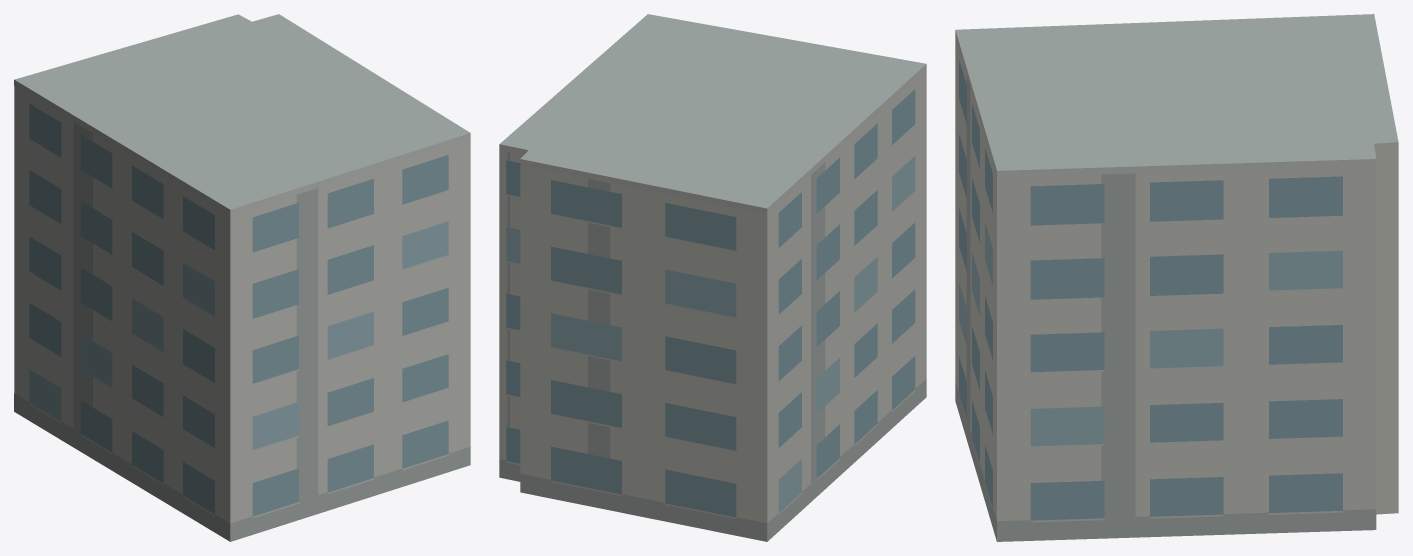
Rendered from survey-upis-32526769.glb.
The picture shows the model from 3 angles, left to right: view 1: azimuth 30°, elevation 25°; view 2: azimuth 150°, elevation 25°; view 3: azimuth 270°, elevation 25°; orthographic projection. The views are drawn at different scales.
Visible parts, largest first — view 1: survey-upis-32526769.tmp; view 2: survey-upis-32526769.tmp; view 3: survey-upis-32526769.tmp.
Boxes of the visible parts, bbox=[...] form: survey-upis-32526769.tmp: bbox=[14, 14, 470, 541]; survey-upis-32526769.tmp: bbox=[499, 14, 926, 541]; survey-upis-32526769.tmp: bbox=[955, 14, 1398, 541].
Size of the model in its own units: 11.8 by 13 by 14.09.
